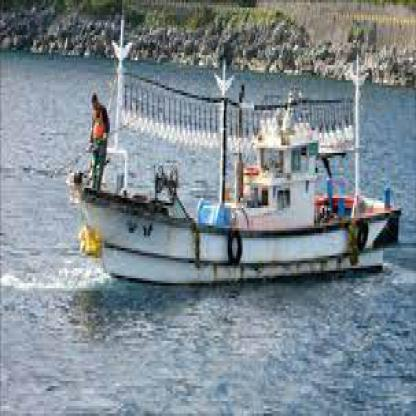fish-b: (63, 20, 404, 296)
